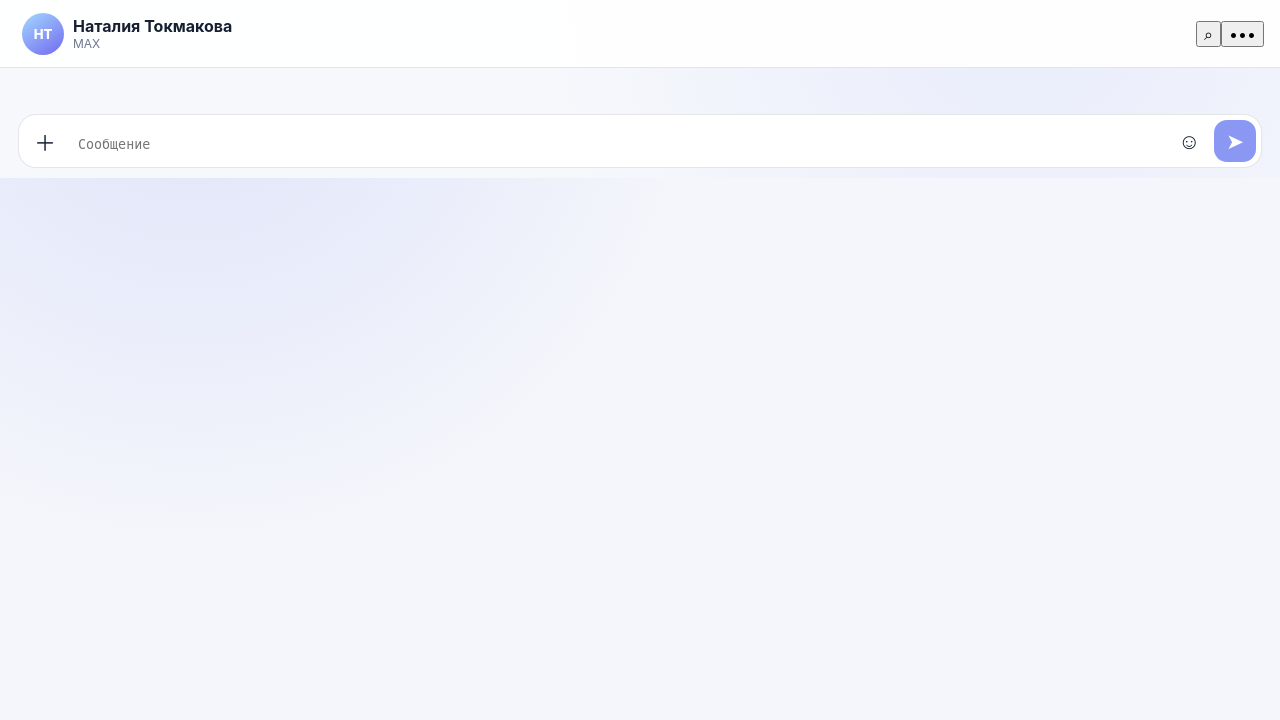
Test: ContactProfile › names a channel chat as Канал
What coordinates should you click on to do the following:
click the button with aria-label "Профиль: "
I would click on:
 (43, 34)
Its box is x1=16 y1=12 x2=1184 y2=56.
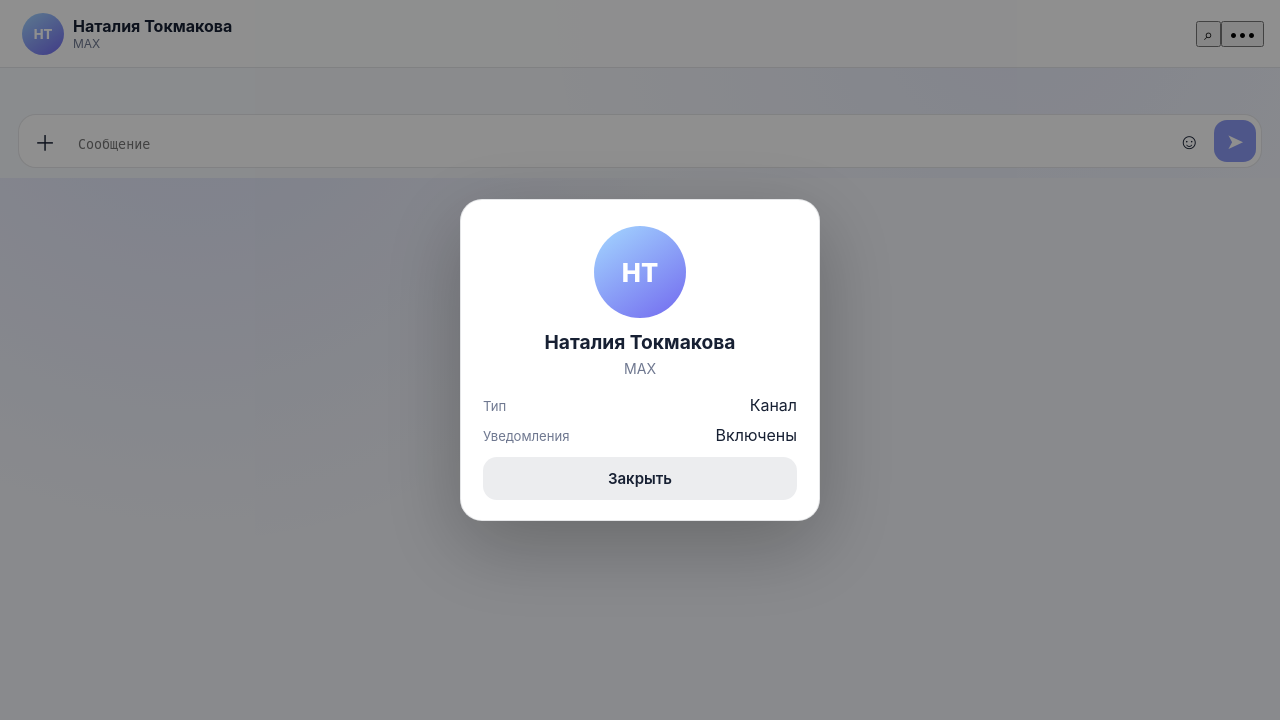
Expected: the dialog shows "Канал", x1=750 y1=395 x2=797 y2=415
